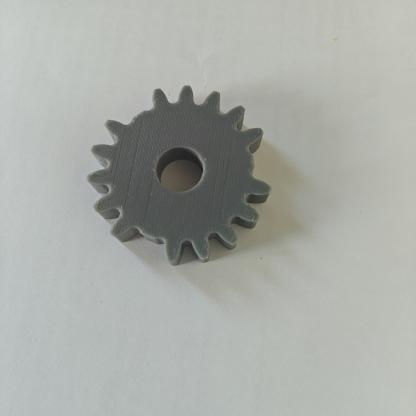defect: (102, 207, 186, 283), (97, 79, 180, 149), (227, 125, 288, 207)
gear: (65, 71, 307, 288)
